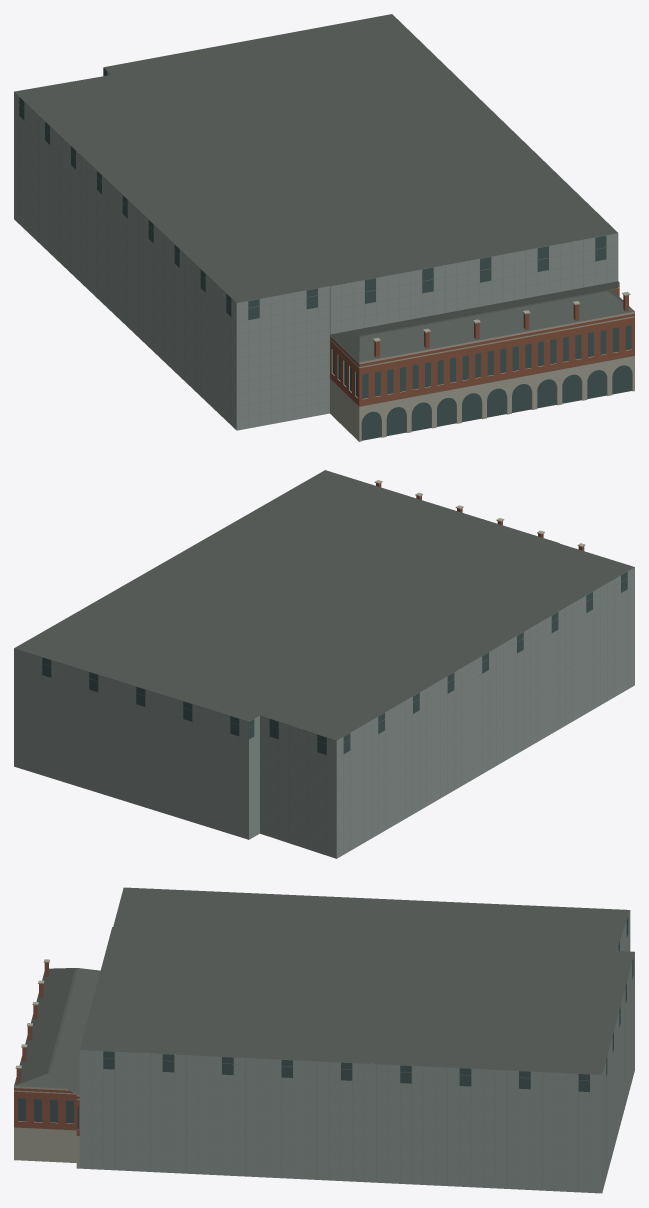
Rendered from 3arena-dublin-near.glb.
3 renders of one model, top to bottom at view 1: azimuth 30°, elevation 25°; view 2: azimuth 150°, elevation 25°; view 3: azimuth 270°, elevation 25°, orthographic. The views are drawn at different scales.
Visible parts, largest first — view 1: 3arena-dublin-0-roof, 3arena-dublin-0-metal, 3arena-dublin-0-glass, 3arena-dublin-0-brick, 3arena-dublin-0-frame, 3arena-dublin-0-stone; view 2: 3arena-dublin-0-roof, 3arena-dublin-0-metal, 3arena-dublin-0-frame, 3arena-dublin-0-glass; view 3: 3arena-dublin-0-roof, 3arena-dublin-0-metal, 3arena-dublin-0-frame, 3arena-dublin-0-glass, 3arena-dublin-0-stone, 3arena-dublin-0-brick.
Part boxes in pixels (x1=…): 3arena-dublin-0-roof: x1=14, y1=14, x2=634, y2=362; 3arena-dublin-0-metal: x1=14, y1=72, x2=617, y2=430; 3arena-dublin-0-glass: x1=19, y1=68, x2=631, y2=440; 3arena-dublin-0-brick: x1=330, y1=284, x2=634, y2=406; 3arena-dublin-0-frame: x1=14, y1=67, x2=618, y2=428; 3arena-dublin-0-stone: x1=330, y1=283, x2=634, y2=441; 3arena-dublin-0-roof: x1=14, y1=470, x2=634, y2=740; 3arena-dublin-0-metal: x1=14, y1=568, x2=634, y2=858; 3arena-dublin-0-frame: x1=14, y1=567, x2=634, y2=858; 3arena-dublin-0-glass: x1=42, y1=572, x2=627, y2=754; 3arena-dublin-0-roof: x1=14, y1=887, x2=634, y2=1094; 3arena-dublin-0-metal: x1=79, y1=911, x2=634, y2=1193; 3arena-dublin-0-frame: x1=80, y1=910, x2=630, y2=1193; 3arena-dublin-0-glass: x1=18, y1=916, x2=633, y2=1129; 3arena-dublin-0-stone: x1=14, y1=959, x2=79, y2=1168; 3arena-dublin-0-brick: x1=14, y1=962, x2=79, y2=1135.
Bounding box in the file's own units: 89.65 × 26.5 × 126.
